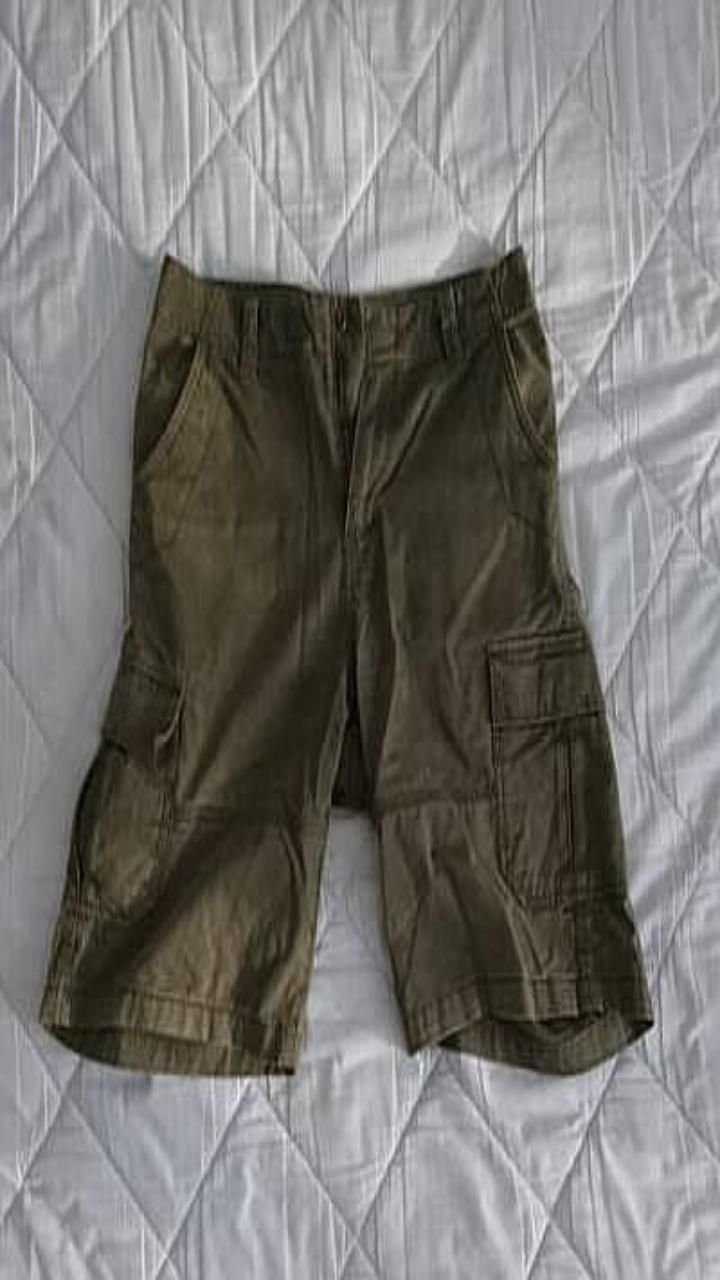Shorts: (40, 247, 652, 1073)
